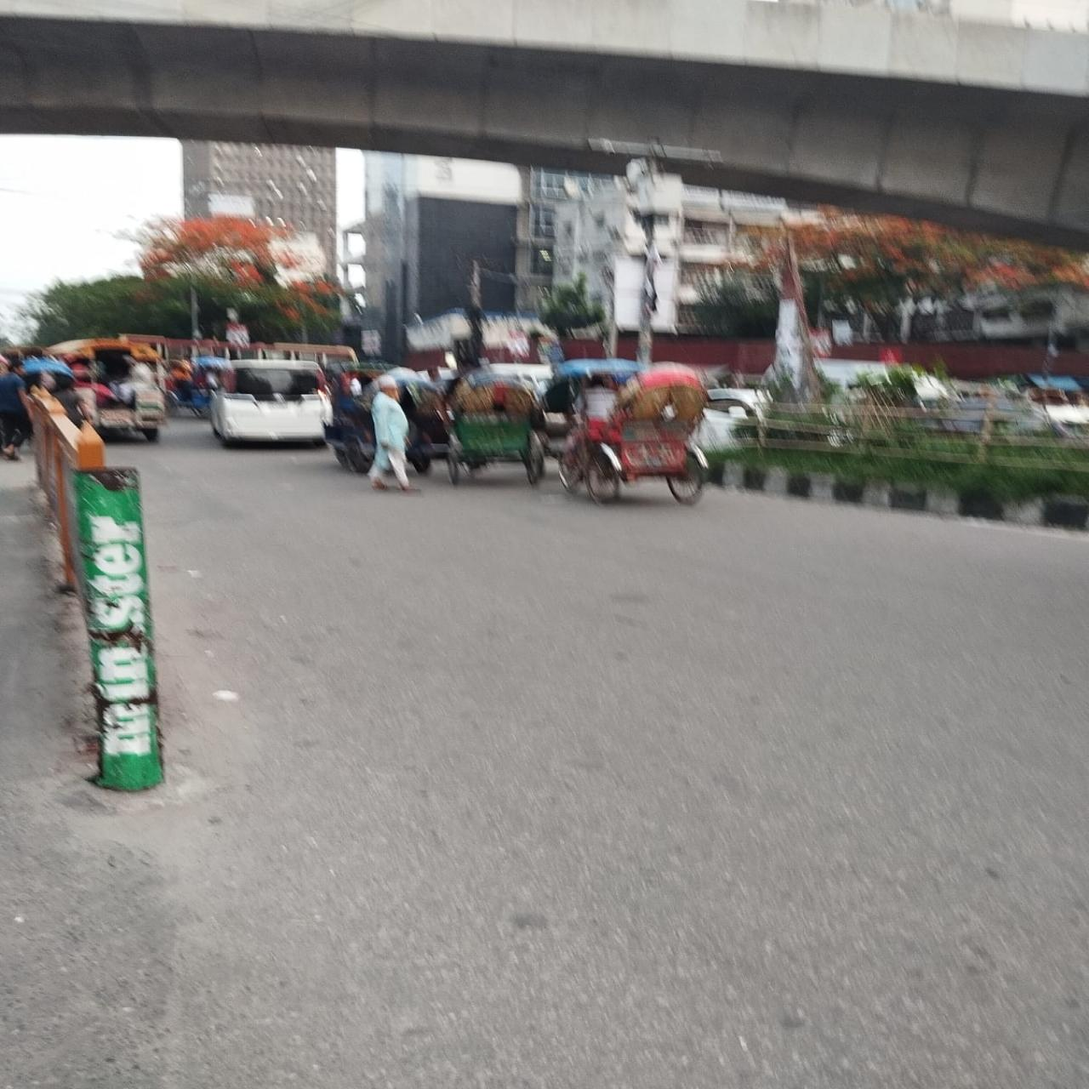person: (356, 374, 421, 493)
